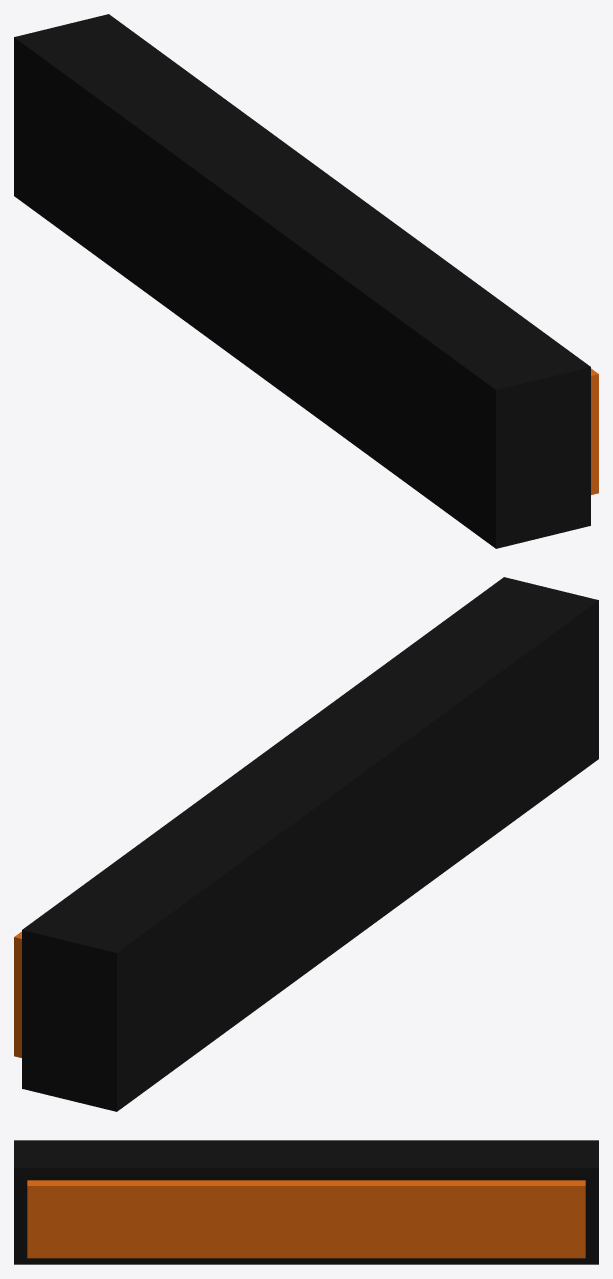
The model's file is coach_destination_sign.glb.
3 renders of one model, top to bottom at view 1: azimuth 30°, elevation 25°; view 2: azimuth 150°, elevation 25°; view 3: azimuth 270°, elevation 25°, orthographic. The views are drawn at different scales.
Parts seen in each view (by area): view 1: body:compound; view 2: body:compound; view 3: body:compound.
Boxes of the visible parts, x1,y1,x2,y2 form: body:compound: [14, 14, 598, 548]; body:compound: [14, 577, 598, 1111]; body:compound: [14, 1140, 598, 1264].
Size of the model in its own units: 0.1875 by 0.25 by 1.38.
